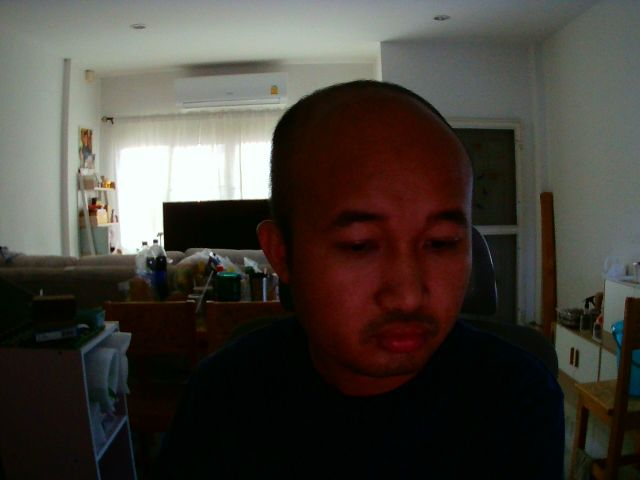face: (257, 74, 476, 372)
